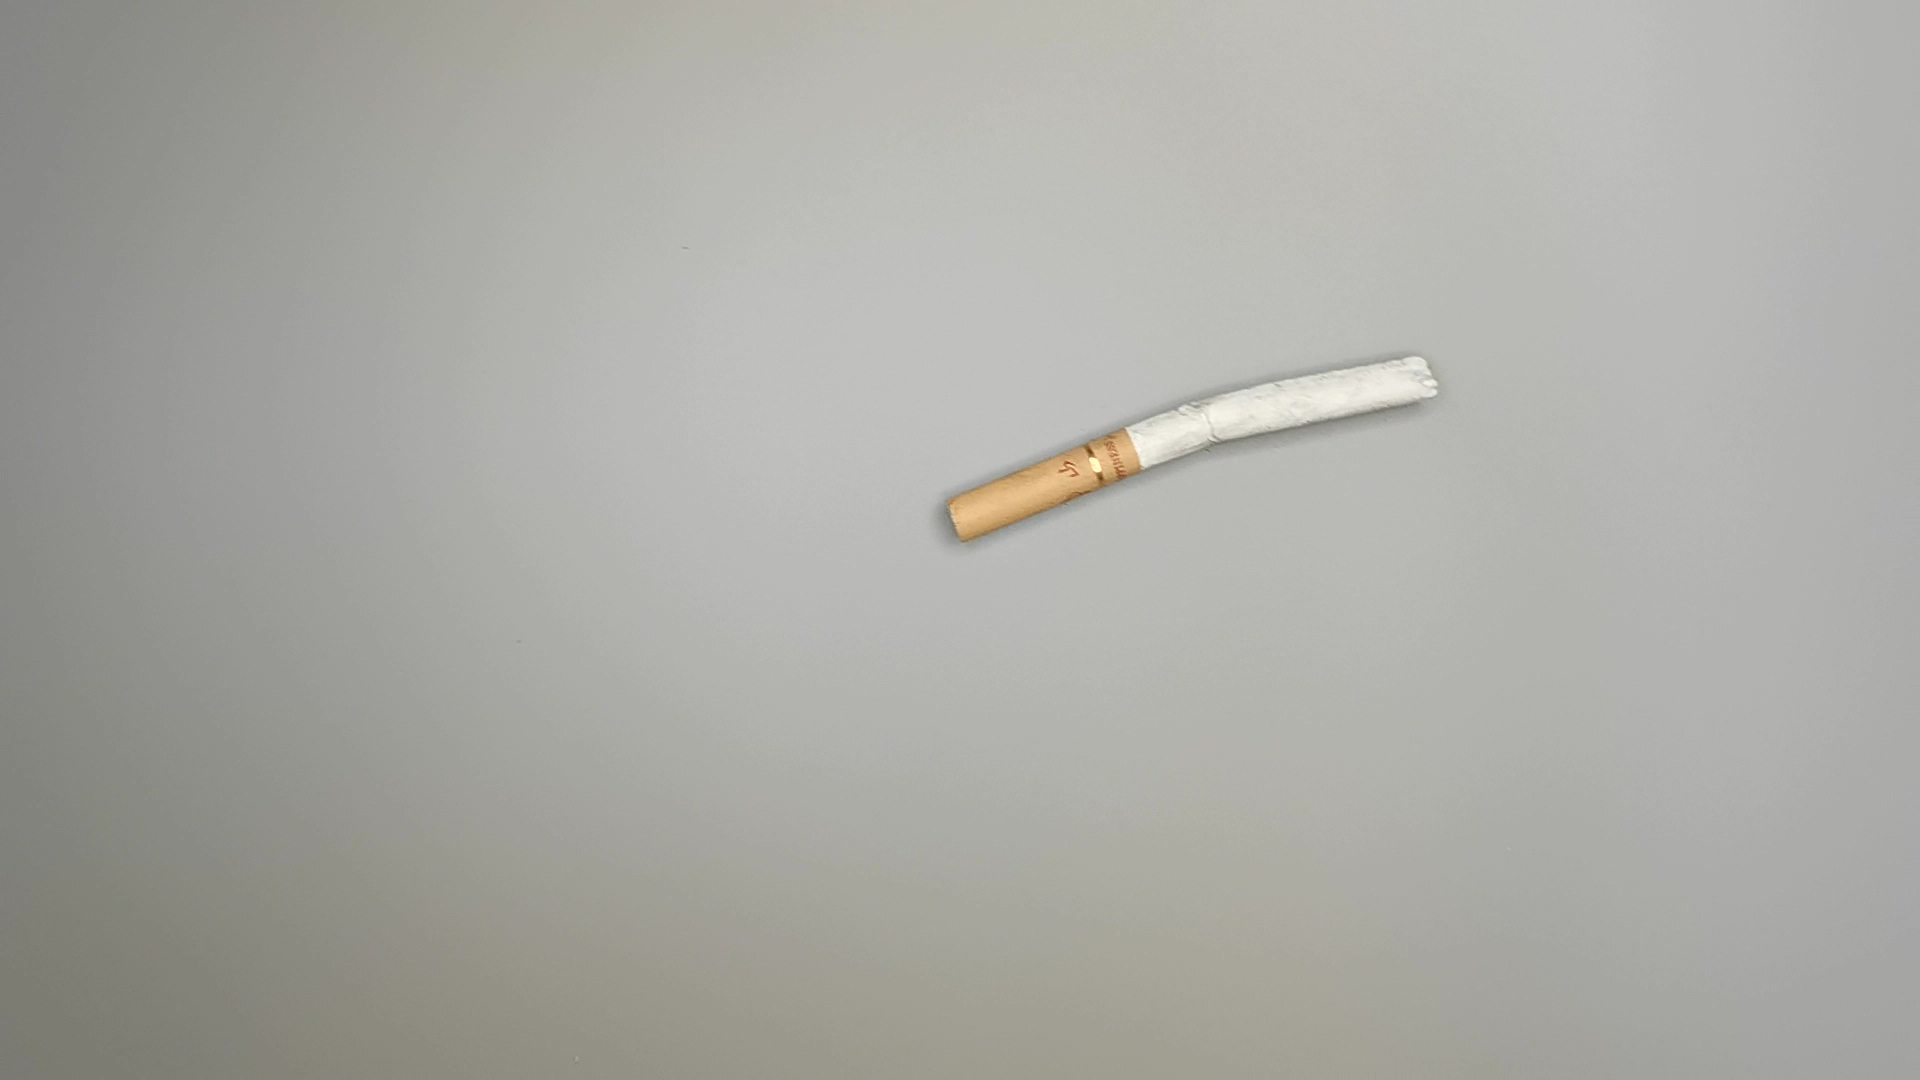cigarette: (938, 353, 1444, 556)
